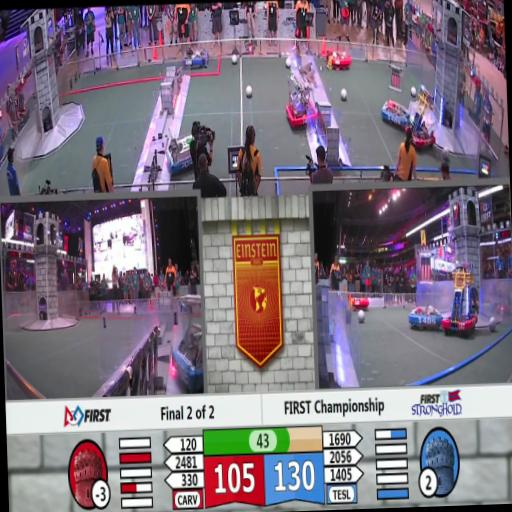robot: (168, 318, 206, 394), (441, 267, 476, 337), (283, 73, 316, 130), (162, 126, 200, 174), (408, 86, 436, 146), (322, 37, 354, 75), (379, 92, 408, 132), (408, 302, 442, 334), (181, 46, 209, 72), (348, 291, 368, 312)
